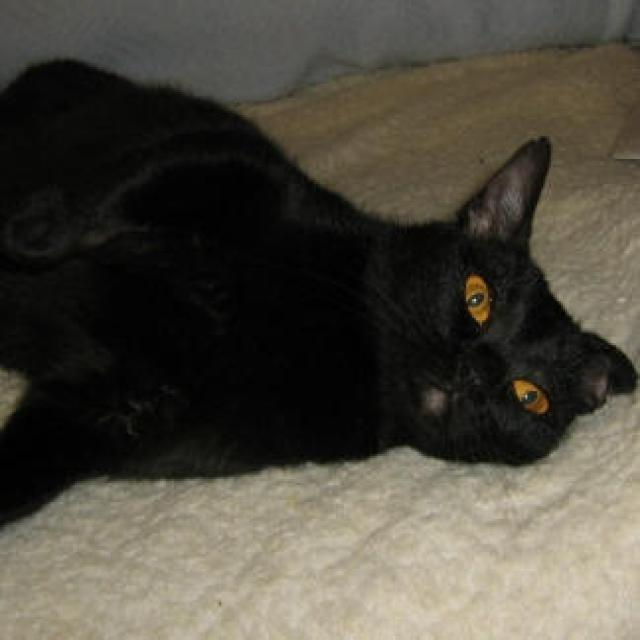Bombay: (347, 123, 640, 483)
